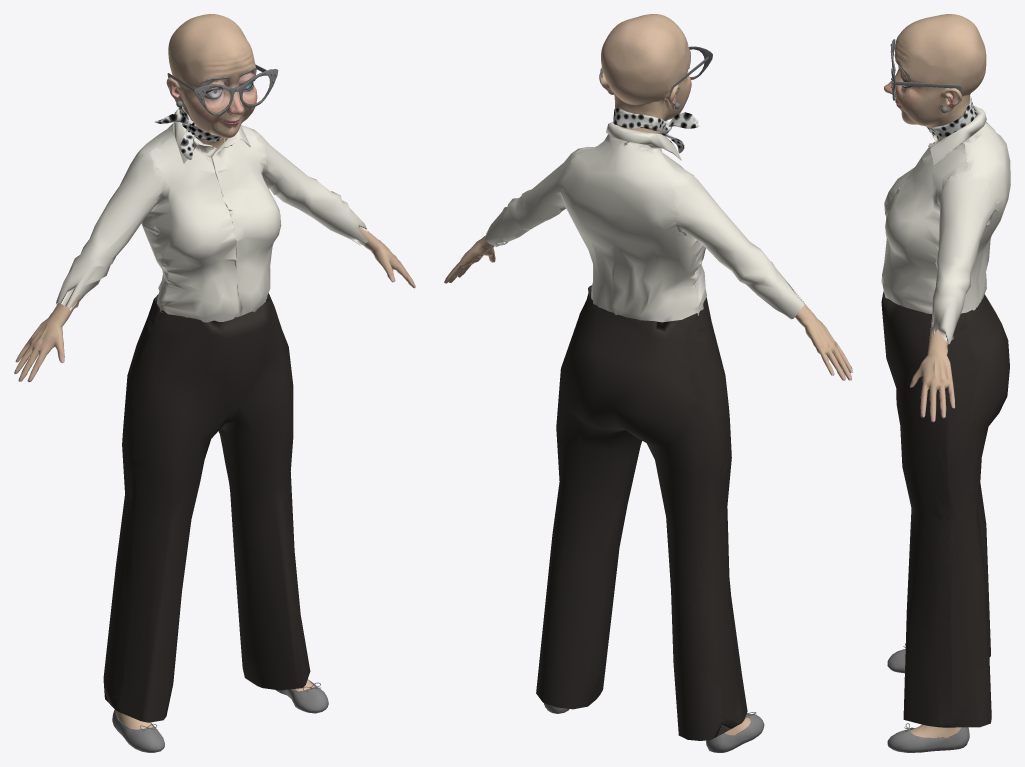
File: PabloM_Multi_eye_FINAL1_5.fbx
The picture shows the model from 3 angles, left to right: view 1: azimuth 30°, elevation 25°; view 2: azimuth 150°, elevation 25°; view 3: azimuth 270°, elevation 25°; orthographic projection. The views are drawn at different scales.
Parts seen in each view (by area): view 1: pantalon_2, Mesh_SeamsColor, abuela18_01, Brazos, Gafas, Zapato2, scarf_1, Zapato1; view 2: pantalon_2, Mesh_SeamsColor, abuela18_01, Brazos, scarf_1, Zapato2; view 3: pantalon_2, Mesh_SeamsColor, abuela18_01, Brazos, Zapato1, scarf_1, Gafas, abuelaFinal_hlowpoly6_1, Zapato2.
Boxes of the visible parts, left/top/right/bottom form: pantalon_2: left=103, top=293, right=310, bottom=722; Mesh_SeamsColor: left=56, top=108, right=368, bottom=322; abuela18_01: left=166, top=14, right=257, bottom=148; Brazos: left=14, top=227, right=415, bottom=382; Gafas: left=167, top=64, right=278, bottom=115; Zapato2: left=112, top=709, right=164, bottom=752; scarf_1: left=154, top=106, right=222, bottom=159; Zapato1: left=276, top=679, right=328, bottom=713; pantalon_2: left=536, top=285, right=747, bottom=740; Mesh_SeamsColor: left=485, top=122, right=804, bottom=322; abuela18_01: left=599, top=14, right=691, bottom=134; Brazos: left=444, top=235, right=852, bottom=380; scarf_1: left=613, top=108, right=699, bottom=153; Zapato2: left=706, top=714, right=764, bottom=752; pantalon_2: left=881, top=291, right=1009, bottom=727; Mesh_SeamsColor: left=881, top=105, right=1010, bottom=344; abuela18_01: left=884, top=14, right=986, bottom=141; Brazos: left=910, top=324, right=955, bottom=422; Zapato1: left=887, top=727, right=969, bottom=752; scarf_1: left=927, top=96, right=976, bottom=139; Gafas: left=891, top=39, right=961, bottom=100; abuelaFinal_hlowpoly6_1: left=910, top=724, right=961, bottom=737; Zapato2: left=887, top=649, right=905, bottom=673.
Size of the model in its own units: 6.32 by 10.59 by 1.8.
